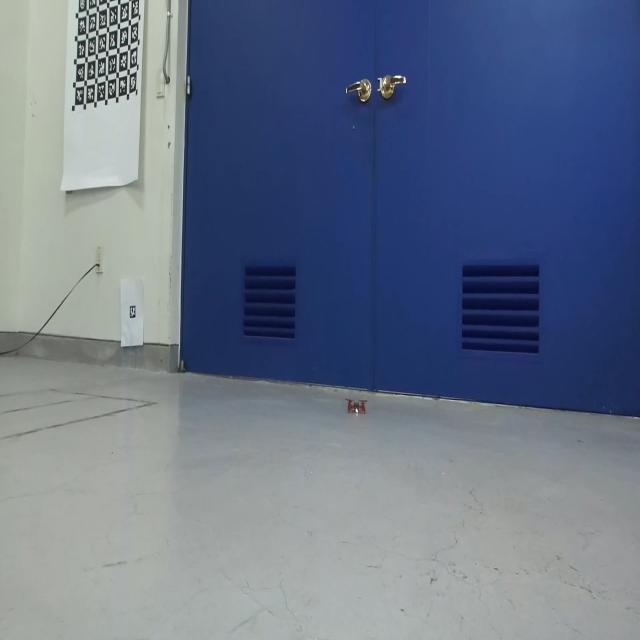crazyflie: (345, 397, 368, 416)
